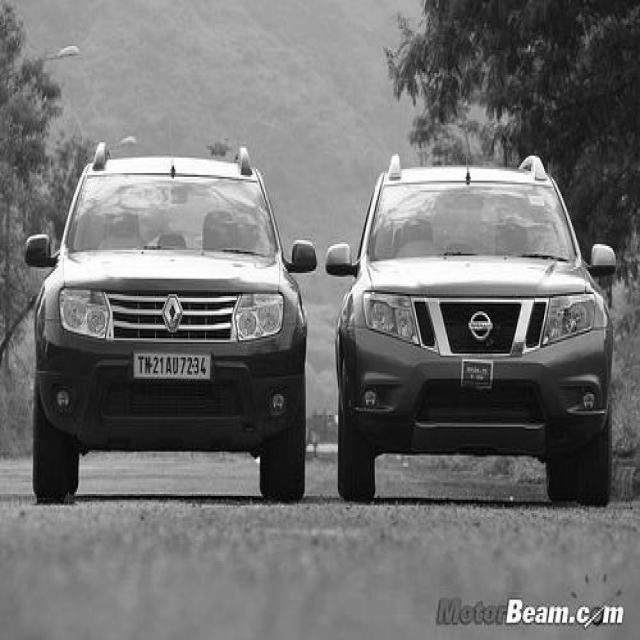car: (0, 144, 626, 509)
license-plate: (134, 356, 212, 378), (463, 356, 493, 386)
